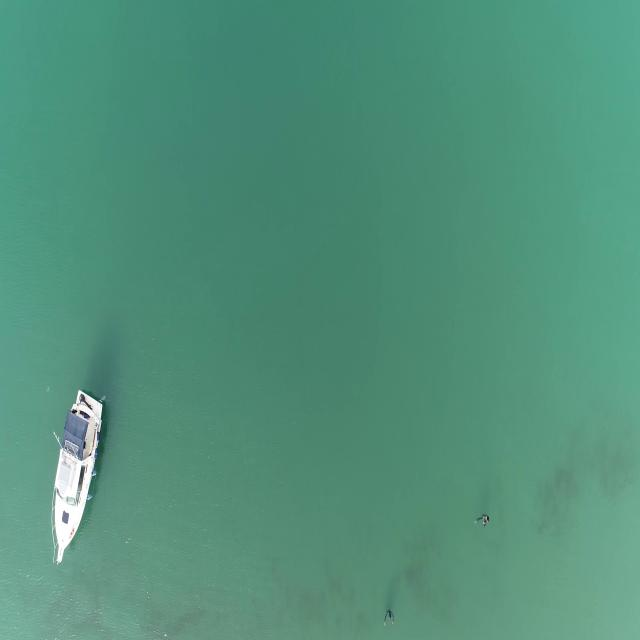boat: (48, 389, 108, 565)
person: (475, 508, 491, 532), (382, 609, 396, 628)
